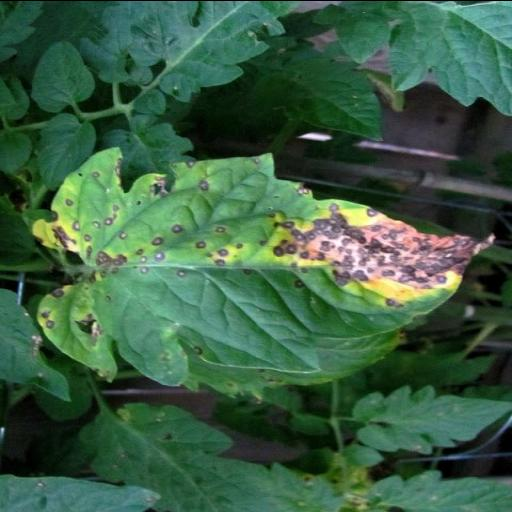disease_tomato: (31, 138, 497, 386)
